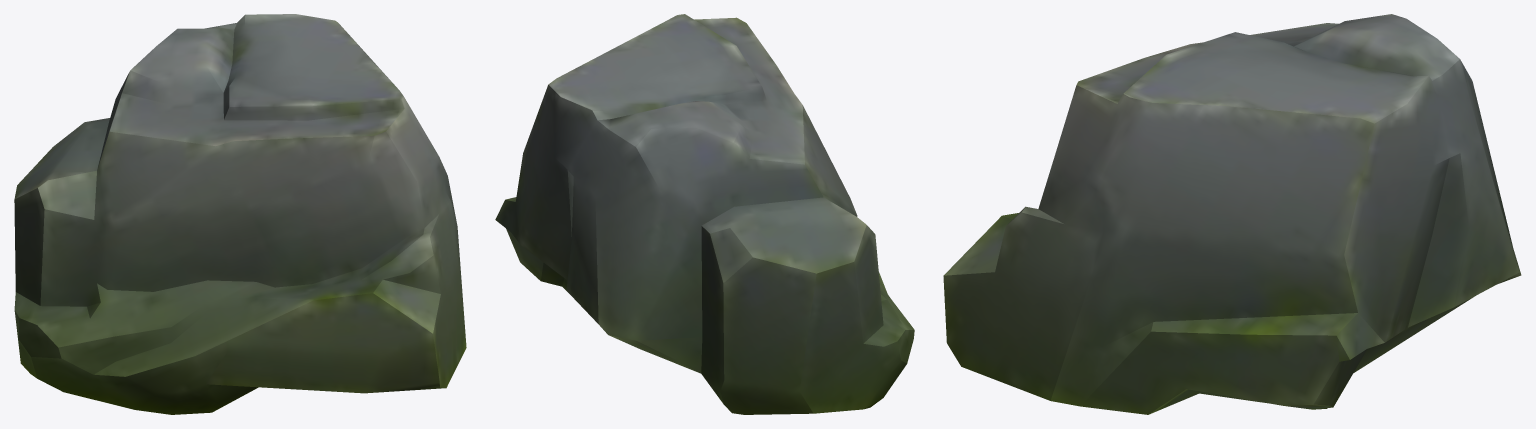
File: Rock_Medium_3.glb
3 renders of one model, left to right at view 1: azimuth 30°, elevation 25°; view 2: azimuth 150°, elevation 25°; view 3: azimuth 270°, elevation 25°, orthographic. The views are drawn at different scales.
Visible parts, largest first — view 1: Rock_Medium_3; view 2: Rock_Medium_3; view 3: Rock_Medium_3.
Part boxes in pixels (x1,y1,x2,y2): Rock_Medium_3: (14, 14, 466, 414); Rock_Medium_3: (495, 14, 914, 414); Rock_Medium_3: (943, 14, 1521, 414).
Size of the model in its own units: 3.42 by 2.32 by 3.48.
1 material, 1 textured.
